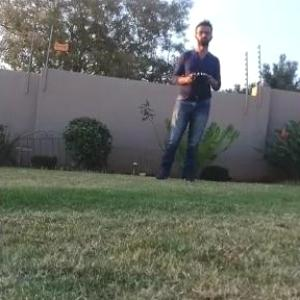follow: (149, 16, 225, 186)
